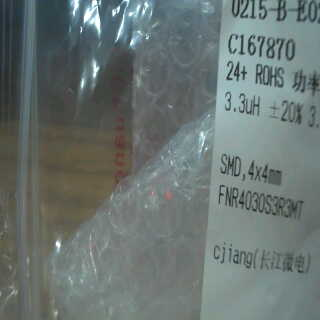3.3uH: (225, 85, 260, 122)
